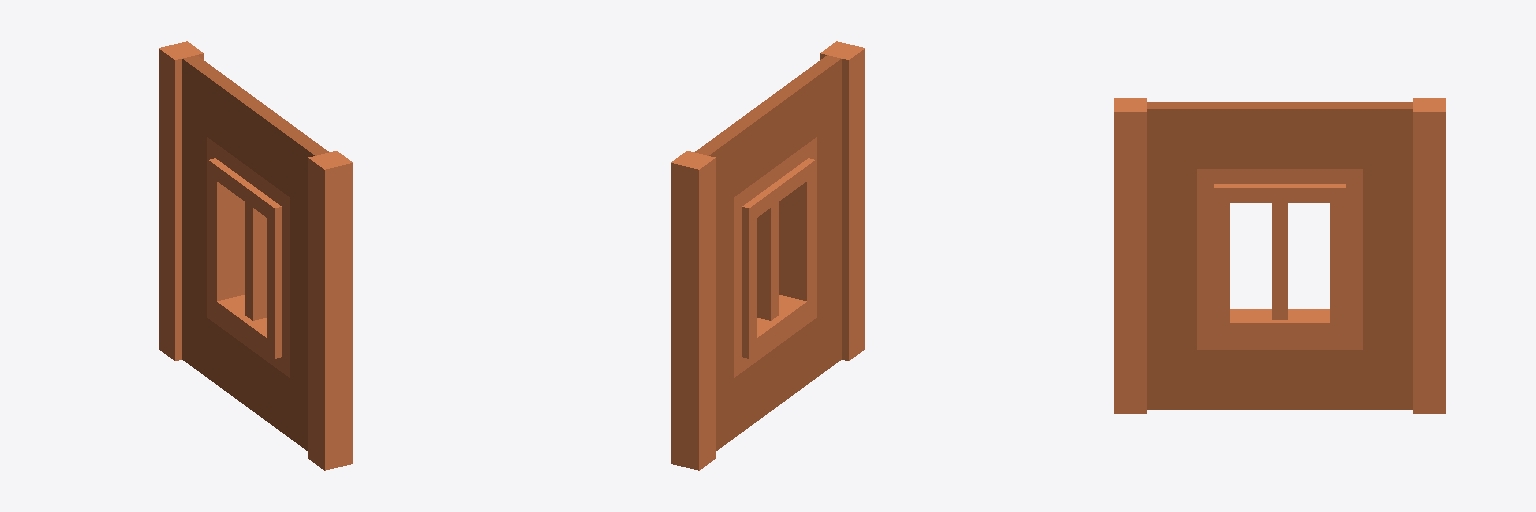
The model's file is wallWoodWindowShutters.obj.
3 renders of one model, left to right at view 1: azimuth 30°, elevation 25°; view 2: azimuth 150°, elevation 25°; view 3: azimuth 270°, elevation 25°, orthographic.
Visible parts, largest first — view 1: wallWoodWindowShutters; view 2: wallWoodWindowShutters; view 3: wallWoodWindowShutters.
Part boxes in pixels (x1,y1,x2,y2): wallWoodWindowShutters: (159,41,352,470); wallWoodWindowShutters: (671,41,864,470); wallWoodWindowShutters: (1114,98,1445,413).
Size of the model in its own units: 0.1 by 1 by 1.